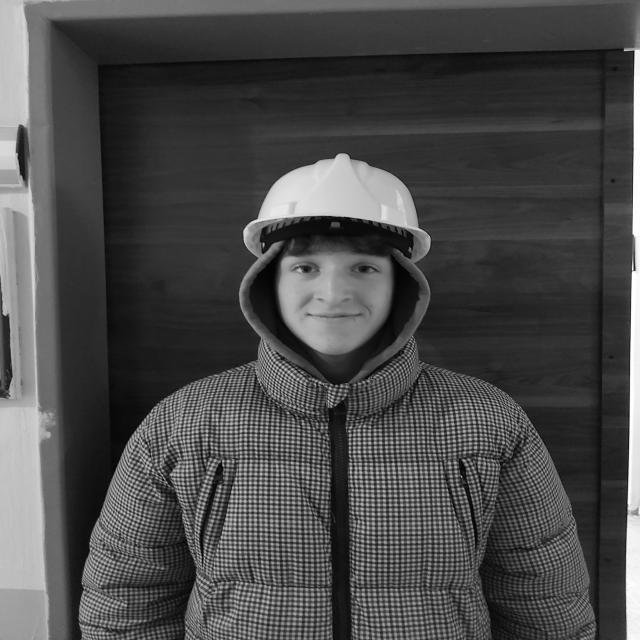safety_helmet: (241, 155, 433, 262)
